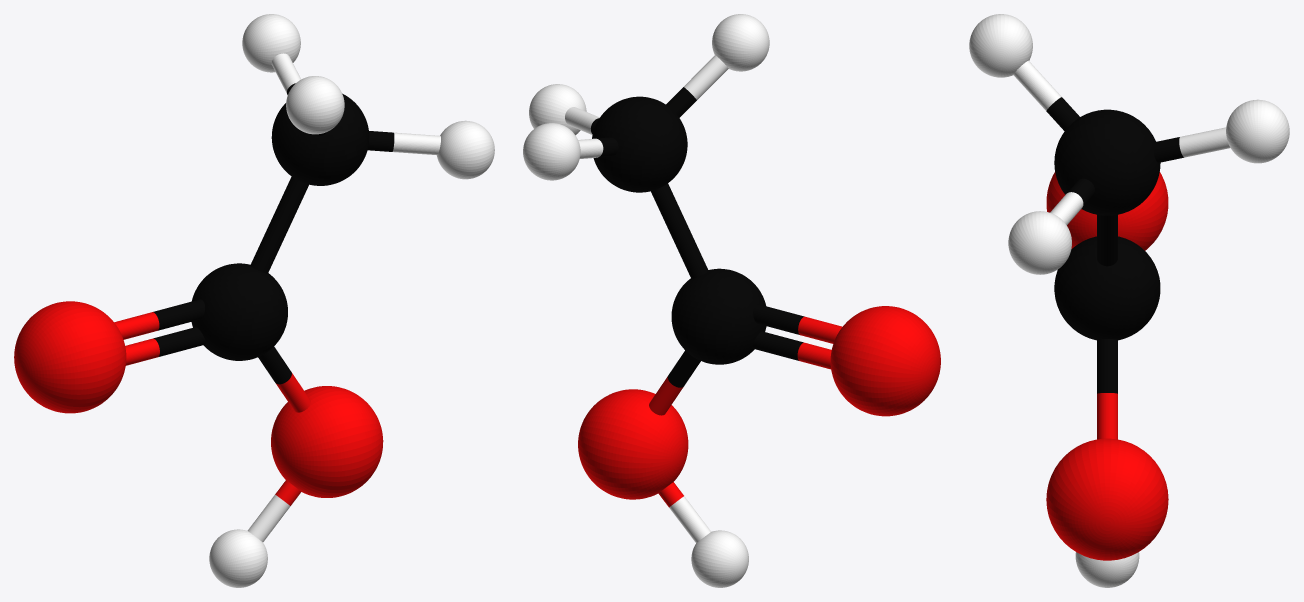
File: acidoetanoico.obj
3 views of the same model, side by side, from view 1: azimuth 30°, elevation 25°; view 2: azimuth 150°, elevation 25°; view 3: azimuth 270°, elevation 25° (orthographic). The views are drawn at different scales.
Parts seen in each view (by area): view 1: Esfera_UV.004, Esfera_UV.002_Esfera_UV.000, Esfera_UV.001, Esfera_UV.002, Esfera_UV.005_Esfera_UV.007, Esfera_UV.006_Esfera_UV.008, Esfera_UV.000_Esfera_UV.006, Esfera_UV.003, Cilindro.001, Cilindro.000, Cilindro.003, Cilindro.003_Cilindro.000 (+3 smaller); view 2: Esfera_UV.004, Esfera_UV.002_Esfera_UV.000, Esfera_UV.001, Esfera_UV.002, Esfera_UV.003, Esfera_UV.006_Esfera_UV.008, Esfera_UV.005_Esfera_UV.007, Cilindro.001, Esfera_UV.000_Esfera_UV.006, Cilindro.000, Cilindro.003, Cilindro.000_Cilindro.000 (+4 smaller); view 3: Esfera_UV.002_Esfera_UV.000, Esfera_UV.002, Esfera_UV.001, Esfera_UV.004, Esfera_UV.000_Esfera_UV.006, Esfera_UV.003, Esfera_UV.005_Esfera_UV.007, Cilindro.002, Cilindro.000_Cilindro.000, Cilindro.006, Esfera_UV.006_Esfera_UV.008, Cilindro.001 (+1 smaller).
Part boxes in pixels (left/top/right/bottom): Esfera_UV.004: left=14, top=301, right=126, bottom=413; Esfera_UV.002_Esfera_UV.000: left=271, top=386, right=383, bottom=497; Esfera_UV.001: left=191, top=263, right=287, bottom=360; Esfera_UV.002: left=271, top=93, right=369, bottom=185; Esfera_UV.005_Esfera_UV.007: left=286, top=76, right=344, bottom=134; Esfera_UV.006_Esfera_UV.008: left=209, top=529, right=267, bottom=587; Esfera_UV.000_Esfera_UV.006: left=437, top=120, right=494, bottom=179; Esfera_UV.003: left=242, top=14, right=300, bottom=72; Cilindro.001: left=250, top=176, right=308, bottom=273; Cilindro.000: left=114, top=299, right=204, bottom=339; Cilindro.003: left=125, top=327, right=205, bottom=365; Cilindro.003_Cilindro.000: left=367, top=131, right=440, bottom=155; Esfera_UV.004: left=830, top=306, right=940, bottom=416; Esfera_UV.002_Esfera_UV.000: left=578, top=389, right=688, bottom=499; Esfera_UV.001: left=671, top=268, right=766, bottom=364; Esfera_UV.002: left=592, top=96, right=687, bottom=192; Esfera_UV.003: left=523, top=123, right=580, bottom=180; Esfera_UV.006_Esfera_UV.008: left=691, top=530, right=748, bottom=587; Esfera_UV.005_Esfera_UV.007: left=712, top=14, right=769, bottom=71; Cilindro.001: left=651, top=183, right=708, bottom=278; Esfera_UV.000_Esfera_UV.006: left=529, top=84, right=586, bottom=135; Cilindro.000: left=753, top=304, right=842, bottom=343; Cilindro.003: left=752, top=331, right=831, bottom=369; Cilindro.000_Cilindro.000: left=666, top=55, right=728, bottom=117; Esfera_UV.002_Esfera_UV.000: left=1046, top=438, right=1168, bottom=560; Esfera_UV.002: left=1054, top=109, right=1160, bottom=215; Esfera_UV.001: left=1054, top=236, right=1160, bottom=340; Esfera_UV.004: left=1046, top=172, right=1168, bottom=250; Esfera_UV.000_Esfera_UV.006: left=1008, top=211, right=1071, bottom=274; Esfera_UV.003: left=1226, top=99, right=1289, bottom=163; Esfera_UV.005_Esfera_UV.007: left=969, top=14, right=1032, bottom=77; Cilindro.002: left=1097, top=339, right=1117, bottom=439; Cilindro.000_Cilindro.000: left=1013, top=60, right=1079, bottom=131; Cilindro.006: left=1153, top=127, right=1230, bottom=162; Esfera_UV.006_Esfera_UV.008: left=1075, top=552, right=1139, bottom=587; Cilindro.001: left=1097, top=215, right=1117, bottom=266.
Size of the model in its own units: 10.37 by 12.11 by 6.03.
